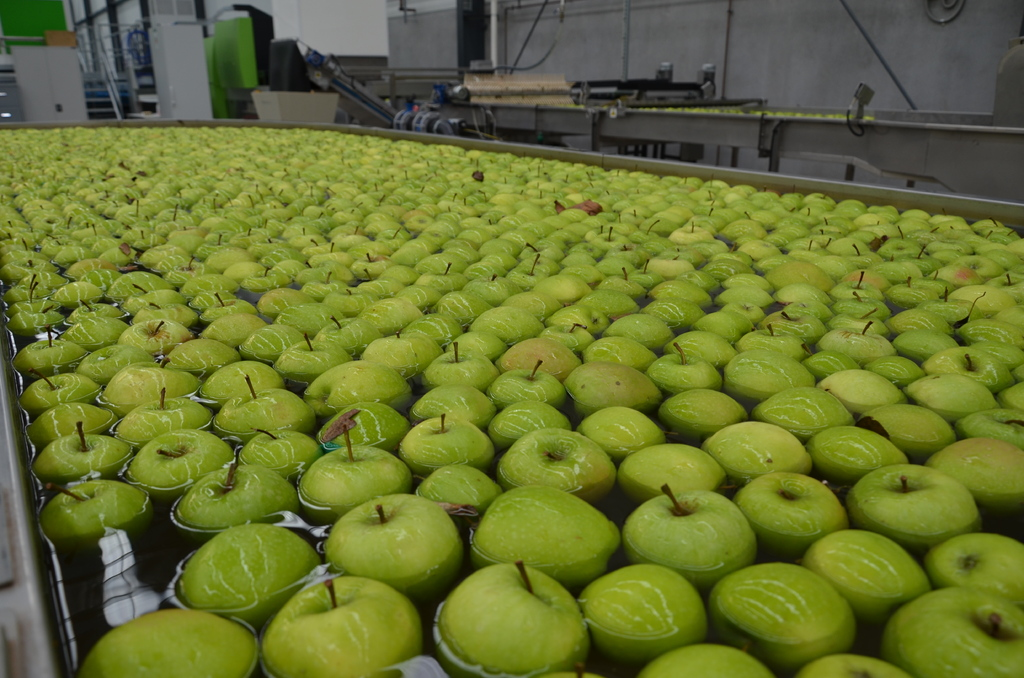Apple: (0, 124, 1023, 677), (259, 573, 419, 677)
